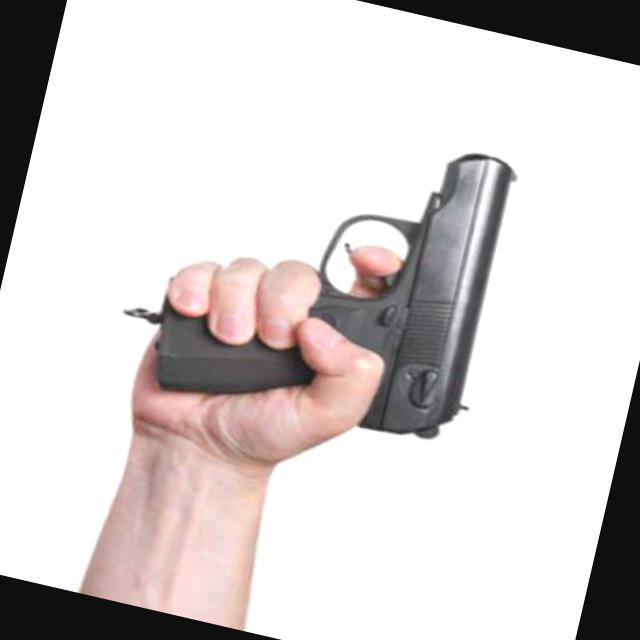handgun: (142, 89, 525, 460)
